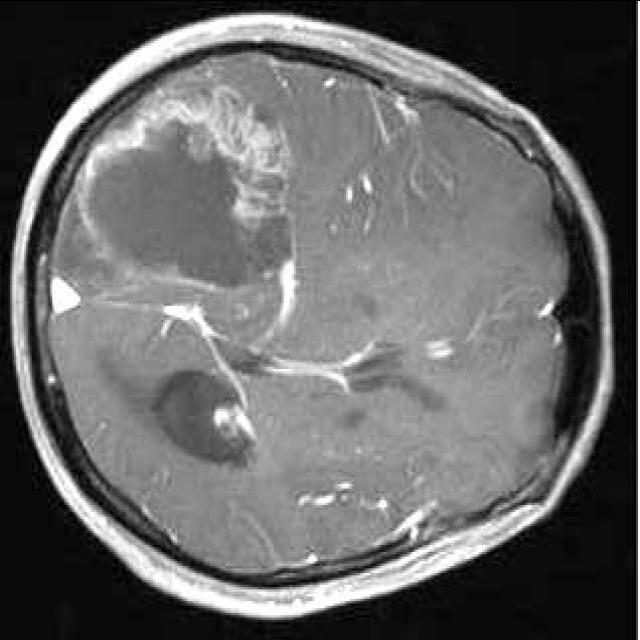tumor: (76, 68, 292, 286), (153, 366, 258, 469)
